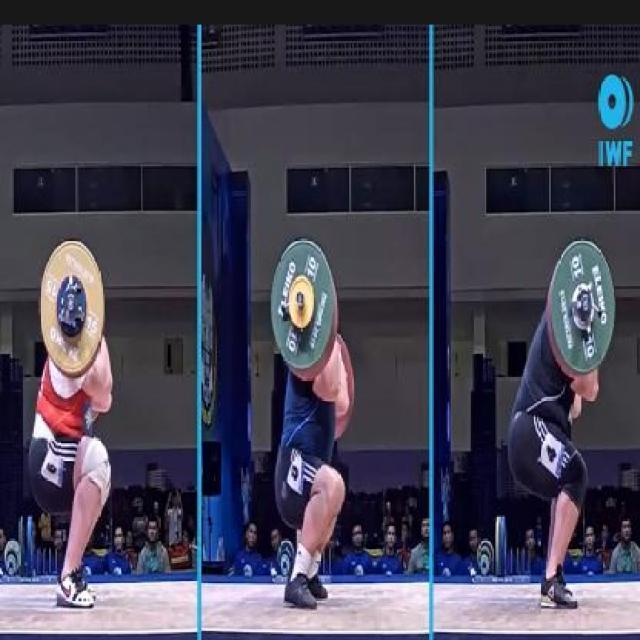barbell: (546, 233, 622, 389), (266, 232, 343, 383), (37, 237, 113, 386)
